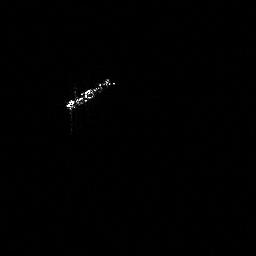ship: (65, 76, 116, 113)
